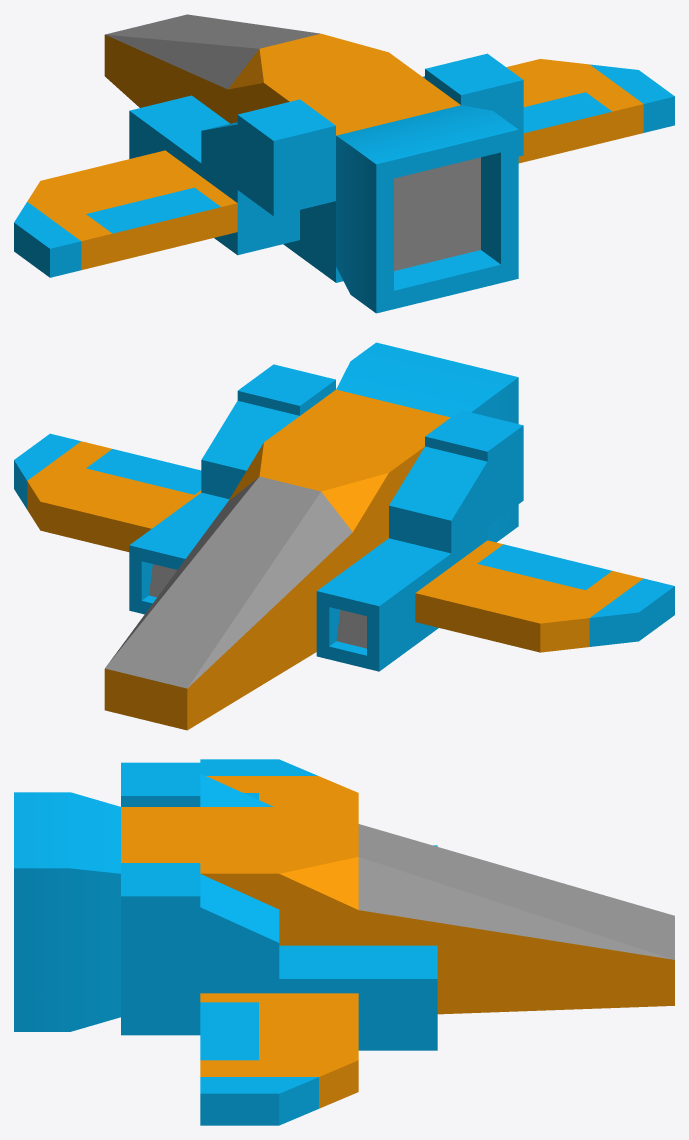
Rendered from playership.dae.
3 views of the same model, one above another, from view 1: azimuth 30°, elevation 25°; view 2: azimuth 150°, elevation 25°; view 3: azimuth 270°, elevation 25° (orthographic). The views are drawn at different scales.
Visible parts, largest first — view 1: spaceCraft1_reskin; view 2: spaceCraft1_reskin; view 3: spaceCraft1_reskin.
Boxes of the visible parts, box(x1,y1,x2,y2) form: spaceCraft1_reskin: box(14, 14, 674, 313); spaceCraft1_reskin: box(14, 342, 674, 730); spaceCraft1_reskin: box(14, 759, 674, 1125).
Bounding box in the file's own units: 19.75 × 16.5 × 4.75.
